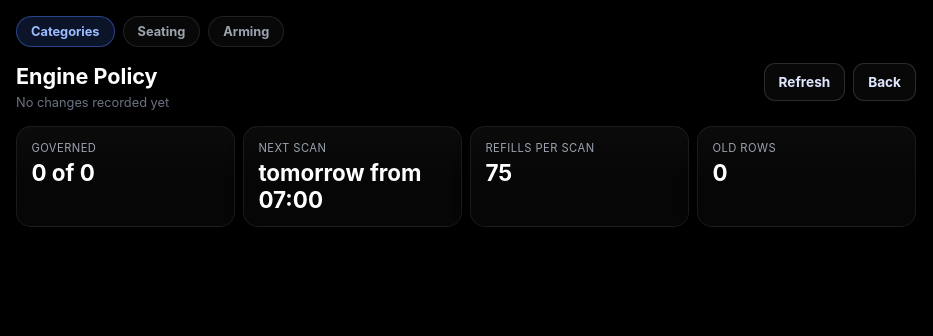
Test case: the card › shows three tabs and Arming is reachable
Click the button "Arming".
click(246, 32)  # box [208, 16, 284, 47]
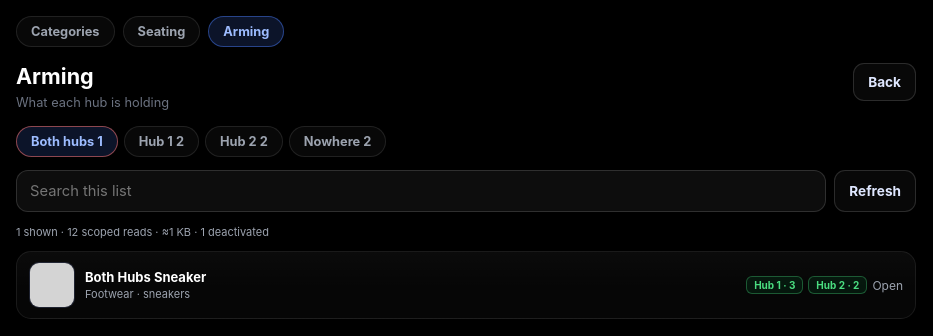
Now the number of "ArmingTab" components is 1, box [16, 126, 916, 319]
